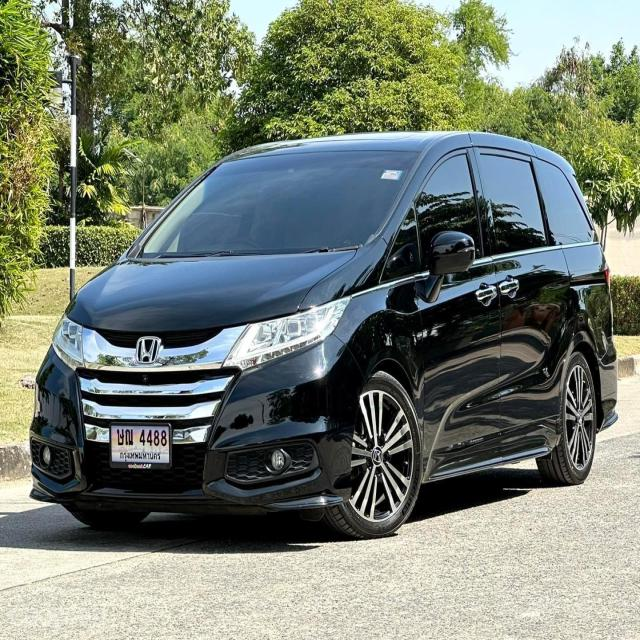license_plate: (107, 418, 174, 472)
